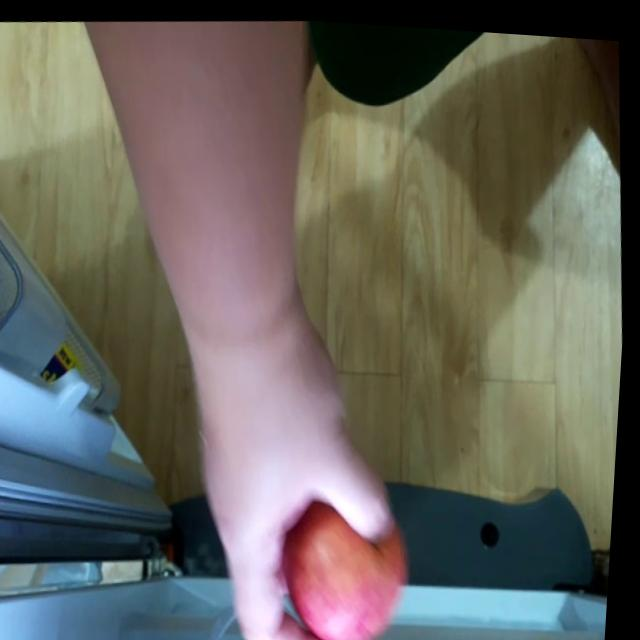apple: (286, 488, 426, 640)
